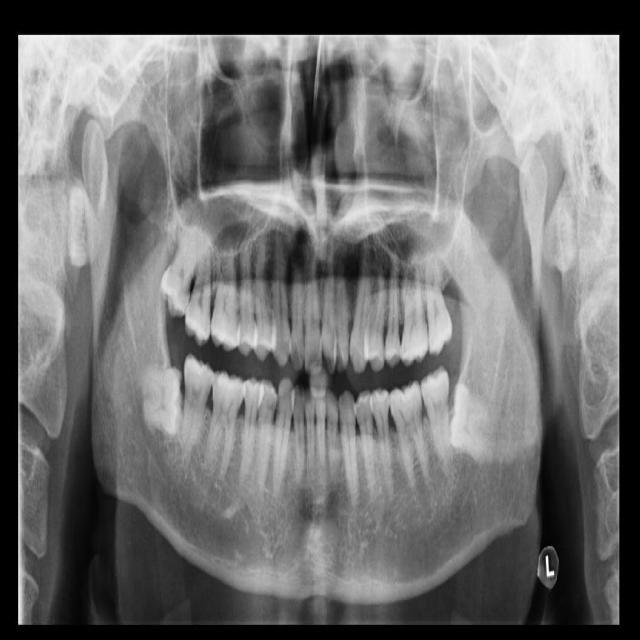3M ESPE Implant: (154, 191, 208, 320)
73: (584, 532, 590, 548)
BioHorizons Implant: (423, 241, 454, 357)
Biomet 3i Implant: (450, 382, 491, 459)
Blue Sky Bio Implant: (419, 365, 454, 478)
Implant: (184, 235, 212, 347), (182, 353, 215, 448)
Keystone Dental Implant: (144, 366, 184, 438)
